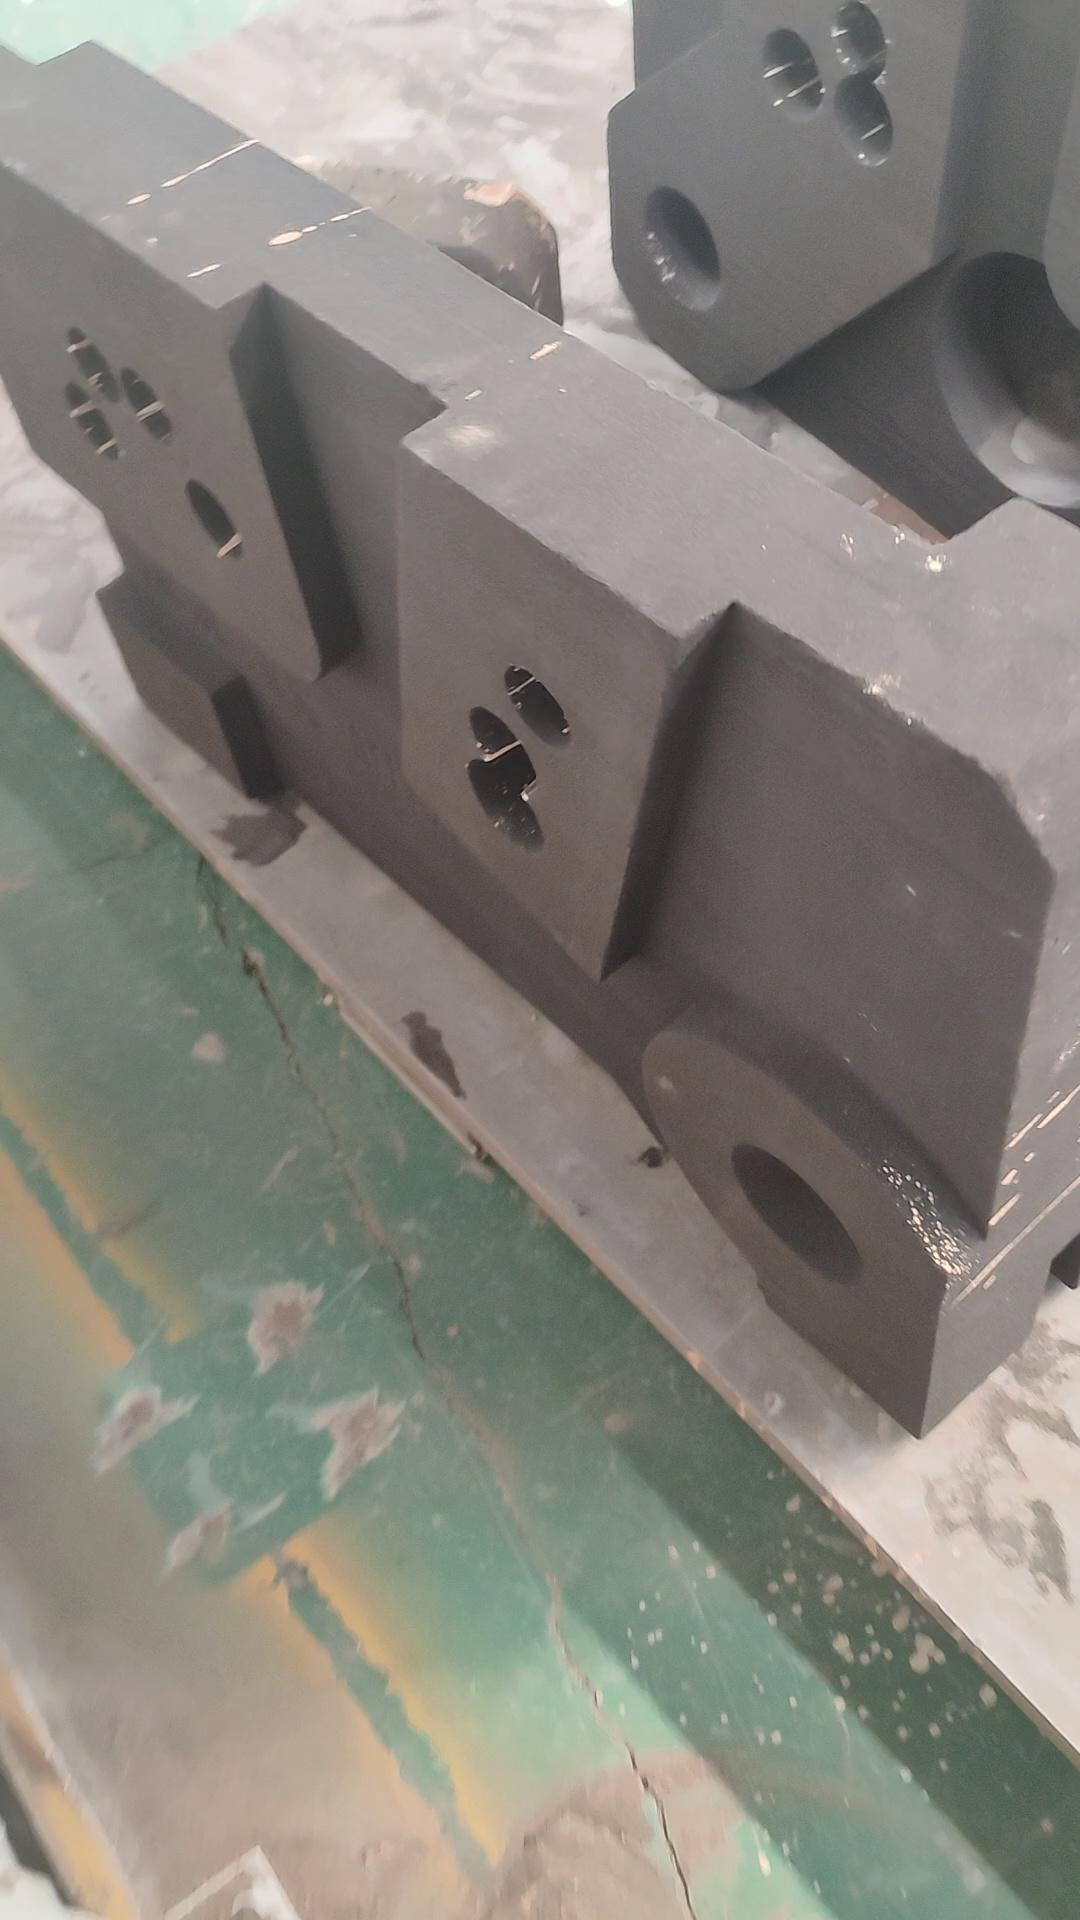pouring hole: (729, 1143, 864, 1287), (644, 189, 723, 313)
